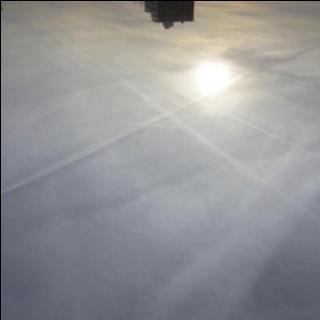Contrails: (0, 19, 320, 320)
